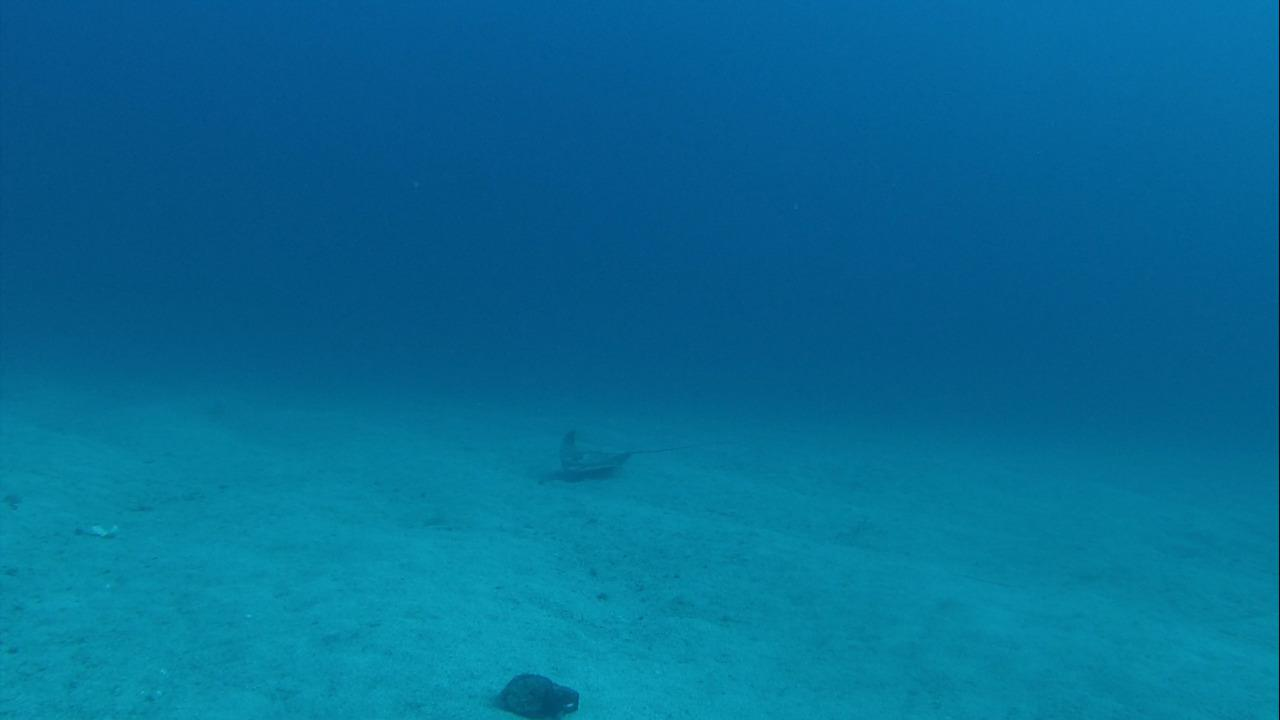myliobatis: (540, 424, 677, 482)
